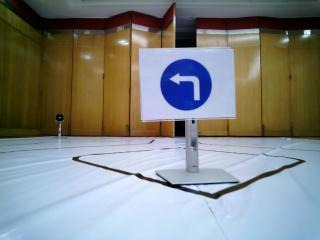left: (143, 49, 232, 120)
